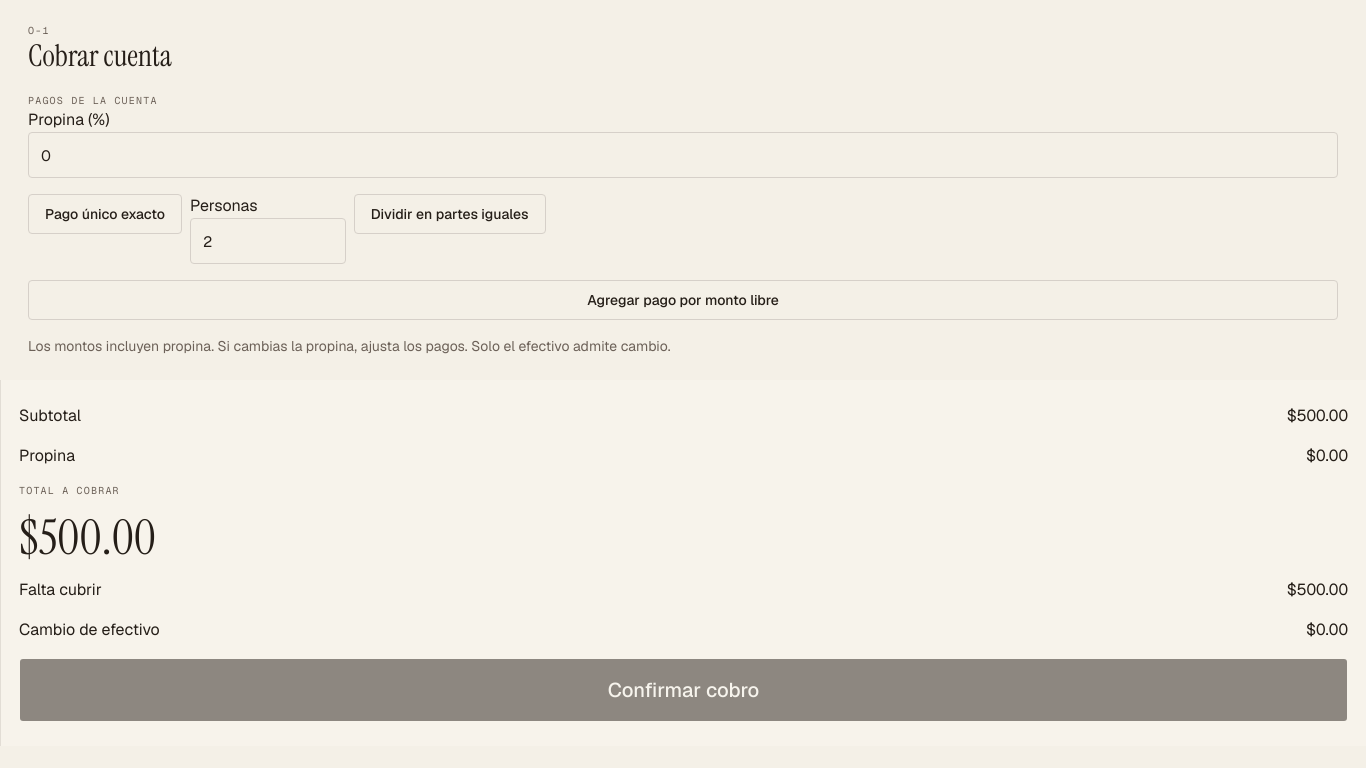
Test: keeps an insufficient or noncash-overpaid account disabled
Click the button "Pago único exacto" at point(105, 214), box [28,194,182,234]
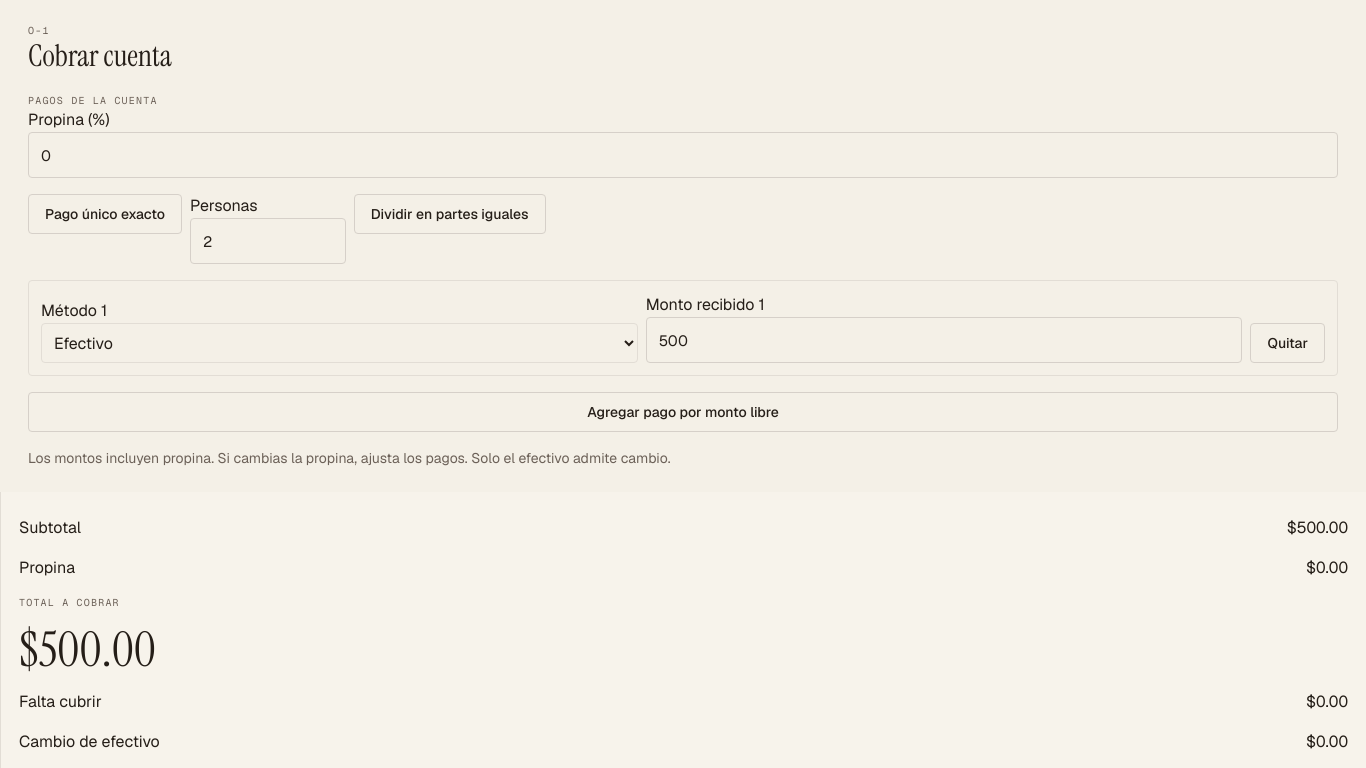
Replace the text in the number field labelled "Monto recibido 1" with "400" at point(944, 340), box [646,317,1242,363]
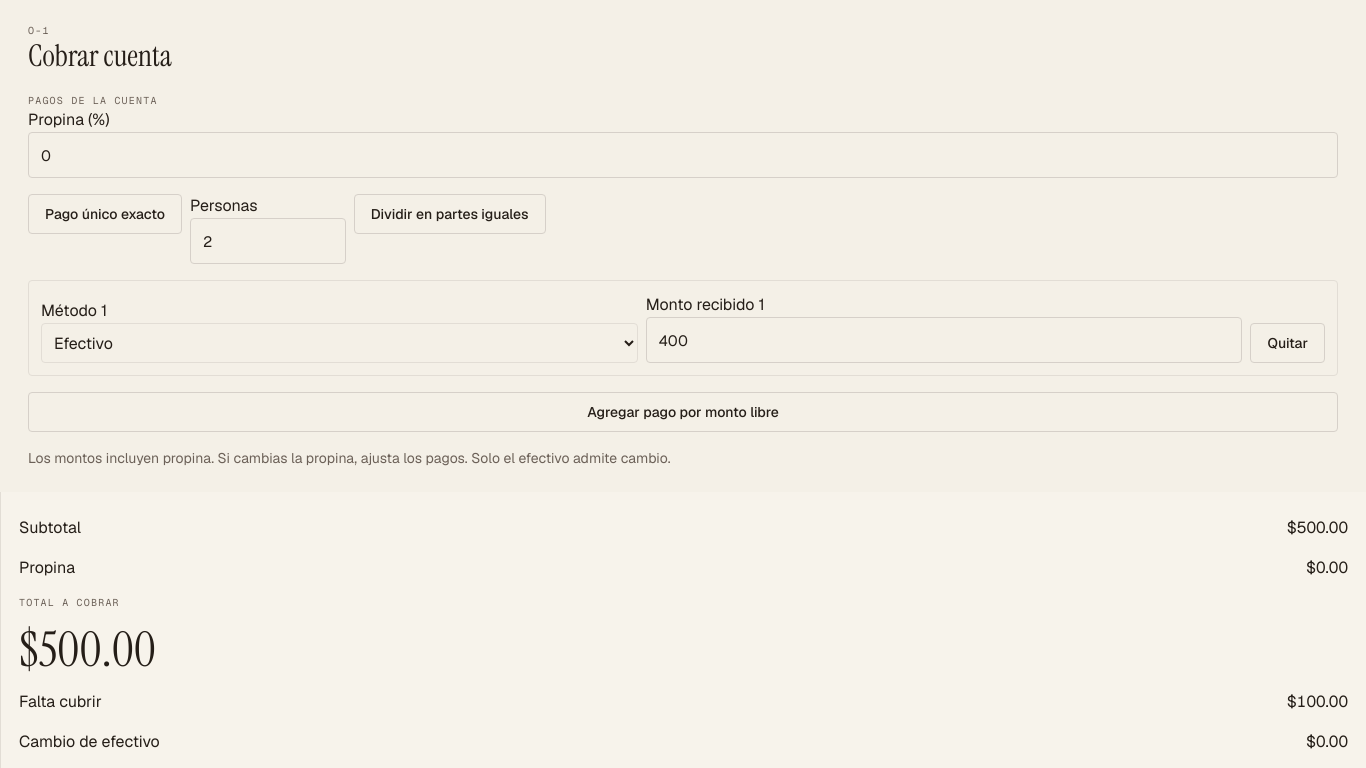
Replace the text in the number field labelled "Monto recibido 1" with "600" at point(944, 340), box [646,317,1242,363]
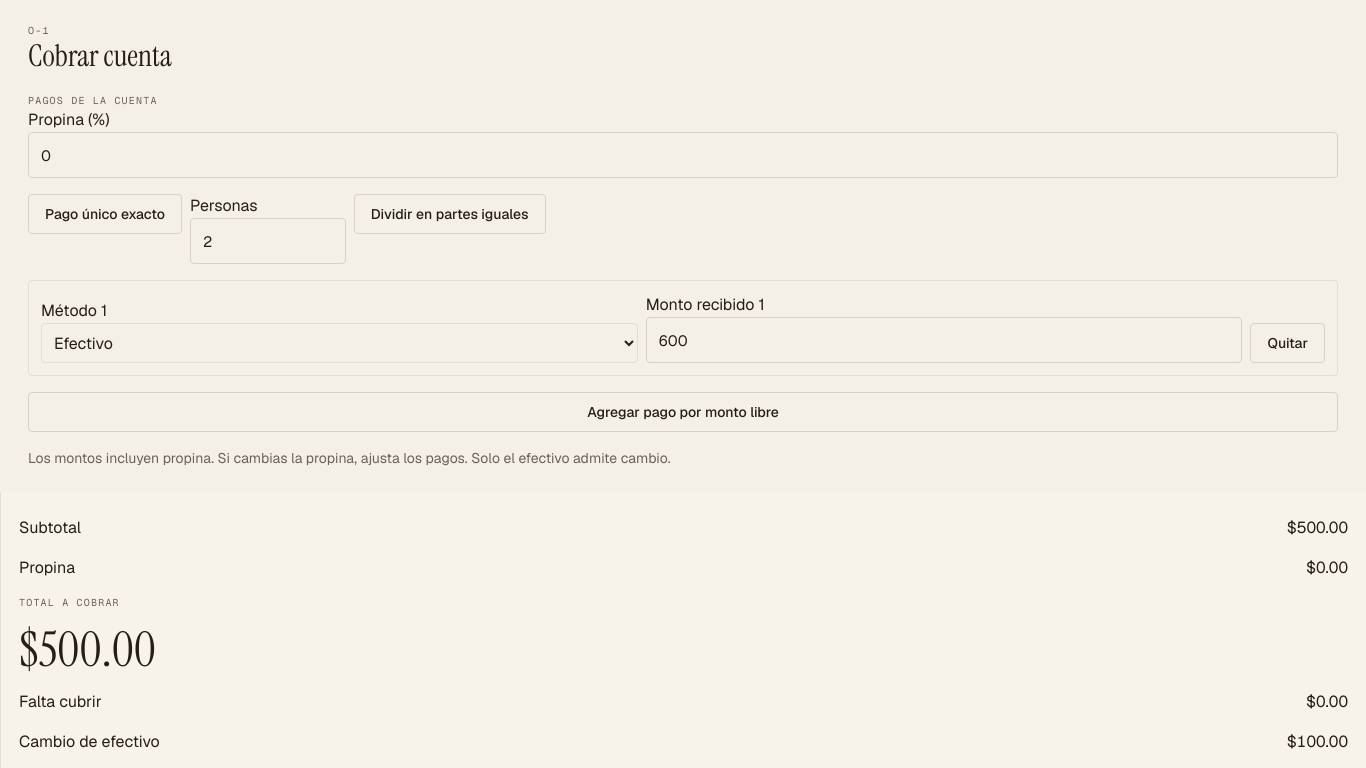
Select "Tarjeta" in the dropdown labelled "Método 1" at point(339, 343), box [41,323,638,363]
(page scrolled)
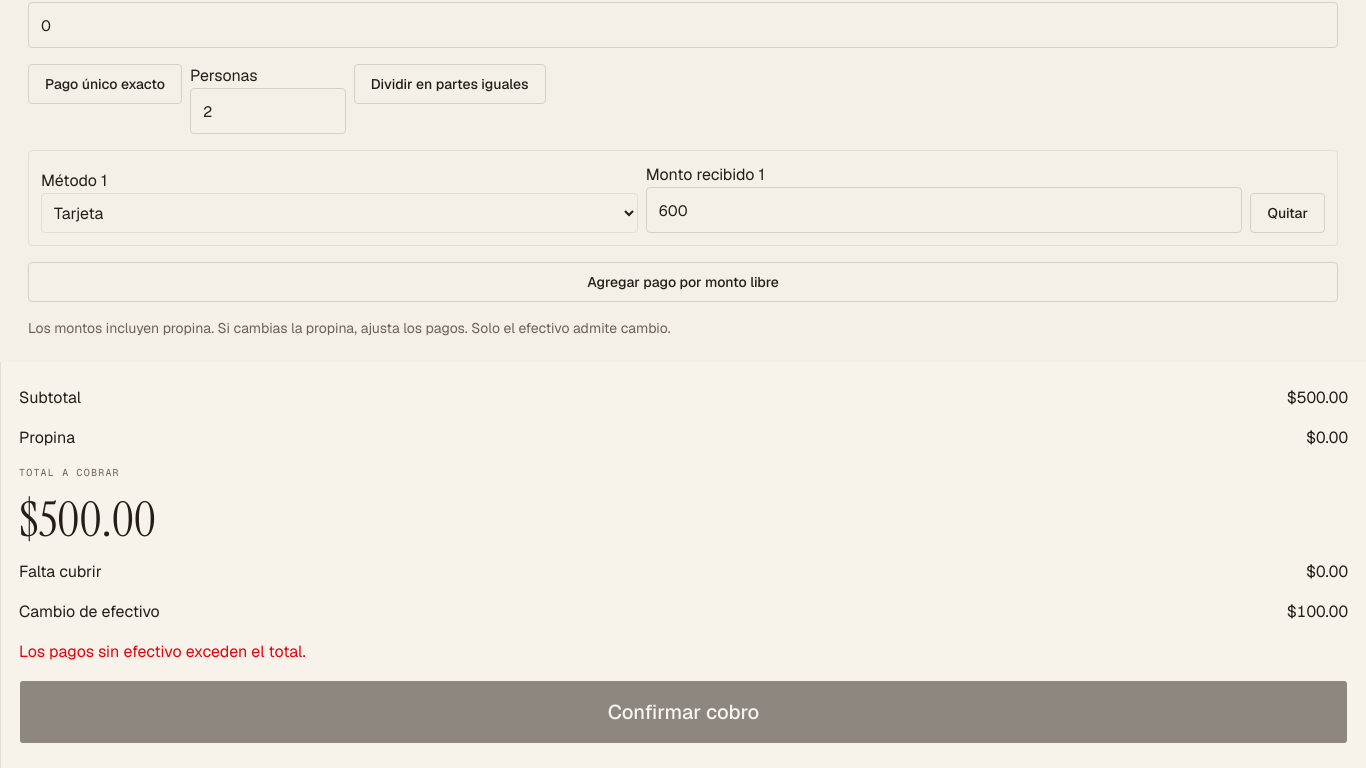
expect the button "Confirmar cobro" is disabled: met, box [19,680,1348,744]
